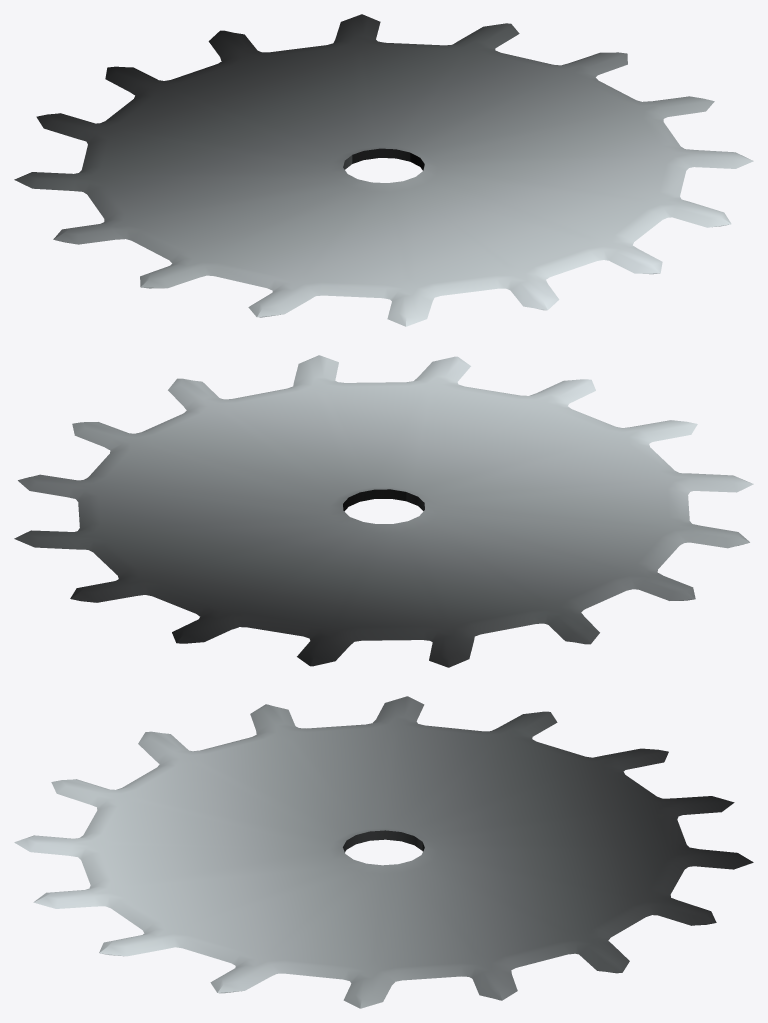
The model's file is Spinning Blade.fbx.
3 views of the same model, one above another, from view 1: azimuth 30°, elevation 25°; view 2: azimuth 150°, elevation 25°; view 3: azimuth 270°, elevation 25° (orthographic).
Visible parts, largest first — view 1: Spinning Blade; view 2: Spinning Blade; view 3: Spinning Blade.
Boxes of the visible parts, x1=… form: Spinning Blade: x1=14, y1=14, x2=753, y2=326; Spinning Blade: x1=14, y1=355, x2=753, y2=667; Spinning Blade: x1=14, y1=696, x2=753, y2=1008.
Bounding box in the file's own units: 5.49 × 0.0759 × 5.49.
Materials: 1 (1 with a texture image).
